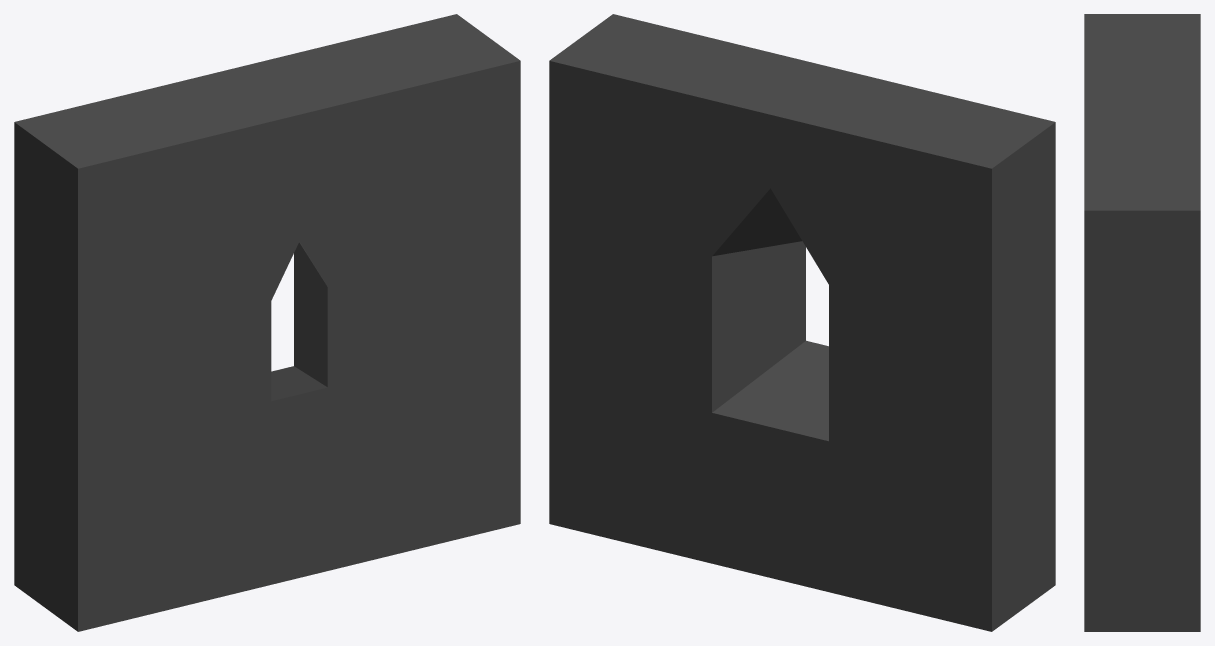
File: Wall_Flat_Opening_Small.fbx
3 views of the same model, side by side, from view 1: azimuth 30°, elevation 25°; view 2: azimuth 150°, elevation 25°; view 3: azimuth 270°, elevation 25° (orthographic). The views are drawn at different scales.
Visible parts, largest first — view 1: Wall_Flat_Opening_Small; view 2: Wall_Flat_Opening_Small; view 3: Wall_Flat_Opening_Small.
Part boxes in pixels (left/top/right/bottom): Wall_Flat_Opening_Small: left=14, top=14, right=520, bottom=631; Wall_Flat_Opening_Small: left=549, top=14, right=1055, bottom=631; Wall_Flat_Opening_Small: left=1084, top=14, right=1200, bottom=631.
Bounding box in the file's own units: 800 × 800 × 200.
